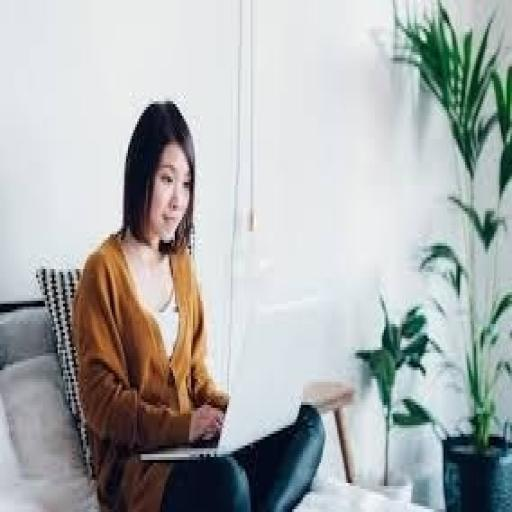using_laptop: (135, 292, 352, 463)
